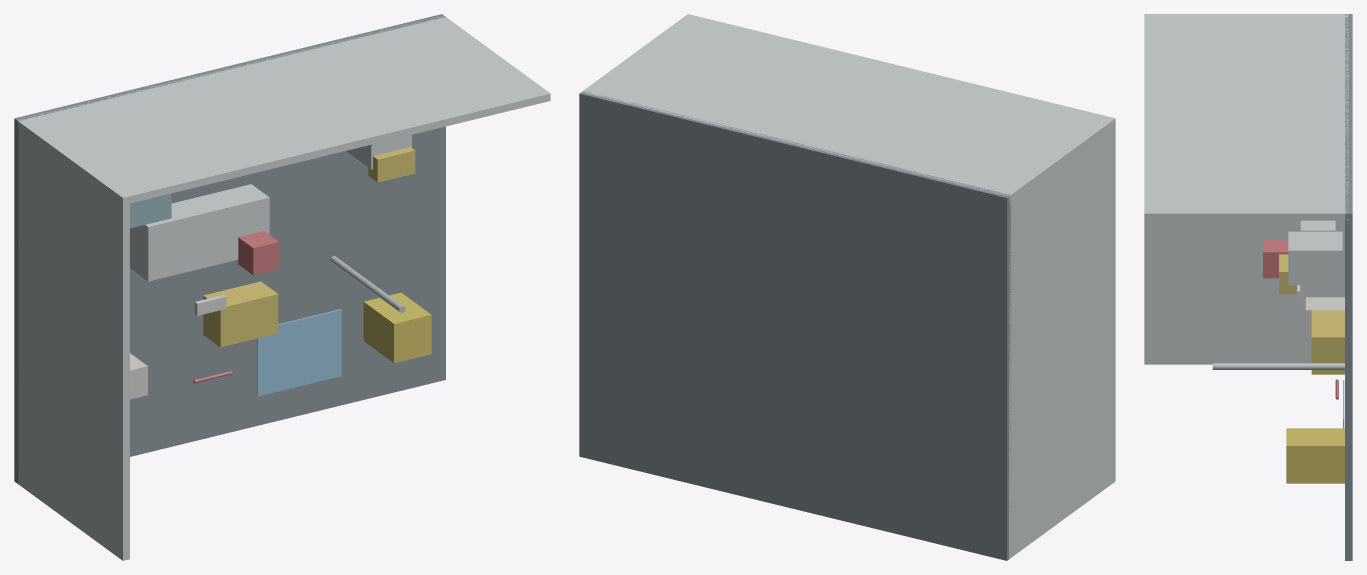
The model's file is risk-room-high.glb.
3 views of the same model, side by side, from view 1: azimuth 30°, elevation 25°; view 2: azimuth 150°, elevation 25°; view 3: azimuth 270°, elevation 25° (orthographic). The views are drawn at different scales.
Parts seen in each view (by area): view 1: floor, wall_back, wall_left, bed, risk_wet_floor, sharps_bin, risk_blocked_path, risk_unsecured_item, risk_sink_obstruction, cabinet, handwash_sink, iv_stand (+1 smaller); view 2: floor, wall_back, wall_left; view 3: wall_back, wall_left, floor, sharps_bin, handwash_sink, risk_blocked_path, iv_stand, risk_unsecured_item, risk_unlabeled_container, risk_sink_obstruction, bed.
Boxes of the visible parts, x1,y1,x2,y2 form: floor: (14, 14, 445, 483); wall_back: (16, 16, 550, 204); wall_left: (18, 118, 129, 560); bed: (130, 184, 269, 281); risk_wet_floor: (257, 309, 341, 396); sharps_bin: (363, 292, 431, 363); risk_blocked_path: (203, 281, 278, 347); risk_unsecured_item: (238, 231, 279, 275); risk_sink_obstruction: (368, 147, 415, 182); cabinet: (130, 193, 171, 228); handwash_sink: (346, 135, 411, 169); iv_stand: (330, 256, 405, 312); floor: (579, 91, 1010, 560); wall_back: (581, 14, 1115, 202); wall_left: (1009, 118, 1115, 558); wall_back: (1144, 14, 1348, 220); wall_left: (1144, 14, 1348, 364); floor: (1345, 14, 1352, 560); sharps_bin: (1286, 428, 1344, 483); handwash_sink: (1288, 231, 1342, 285); risk_blocked_path: (1311, 310, 1344, 374); iv_stand: (1212, 363, 1344, 369); risk_unsecured_item: (1263, 240, 1288, 278); risk_unlabeled_container: (1305, 297, 1344, 338); risk_sink_obstruction: (1279, 254, 1296, 293); bed: (1300, 220, 1335, 231).
Size of the model in its own units: 7.4 by 6 by 3.26.
